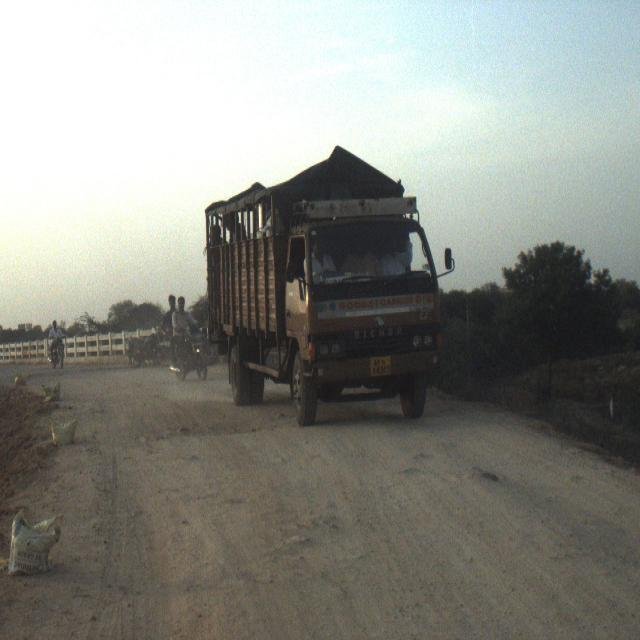pothole: (117, 382, 217, 491), (438, 443, 533, 518), (226, 392, 280, 494)
